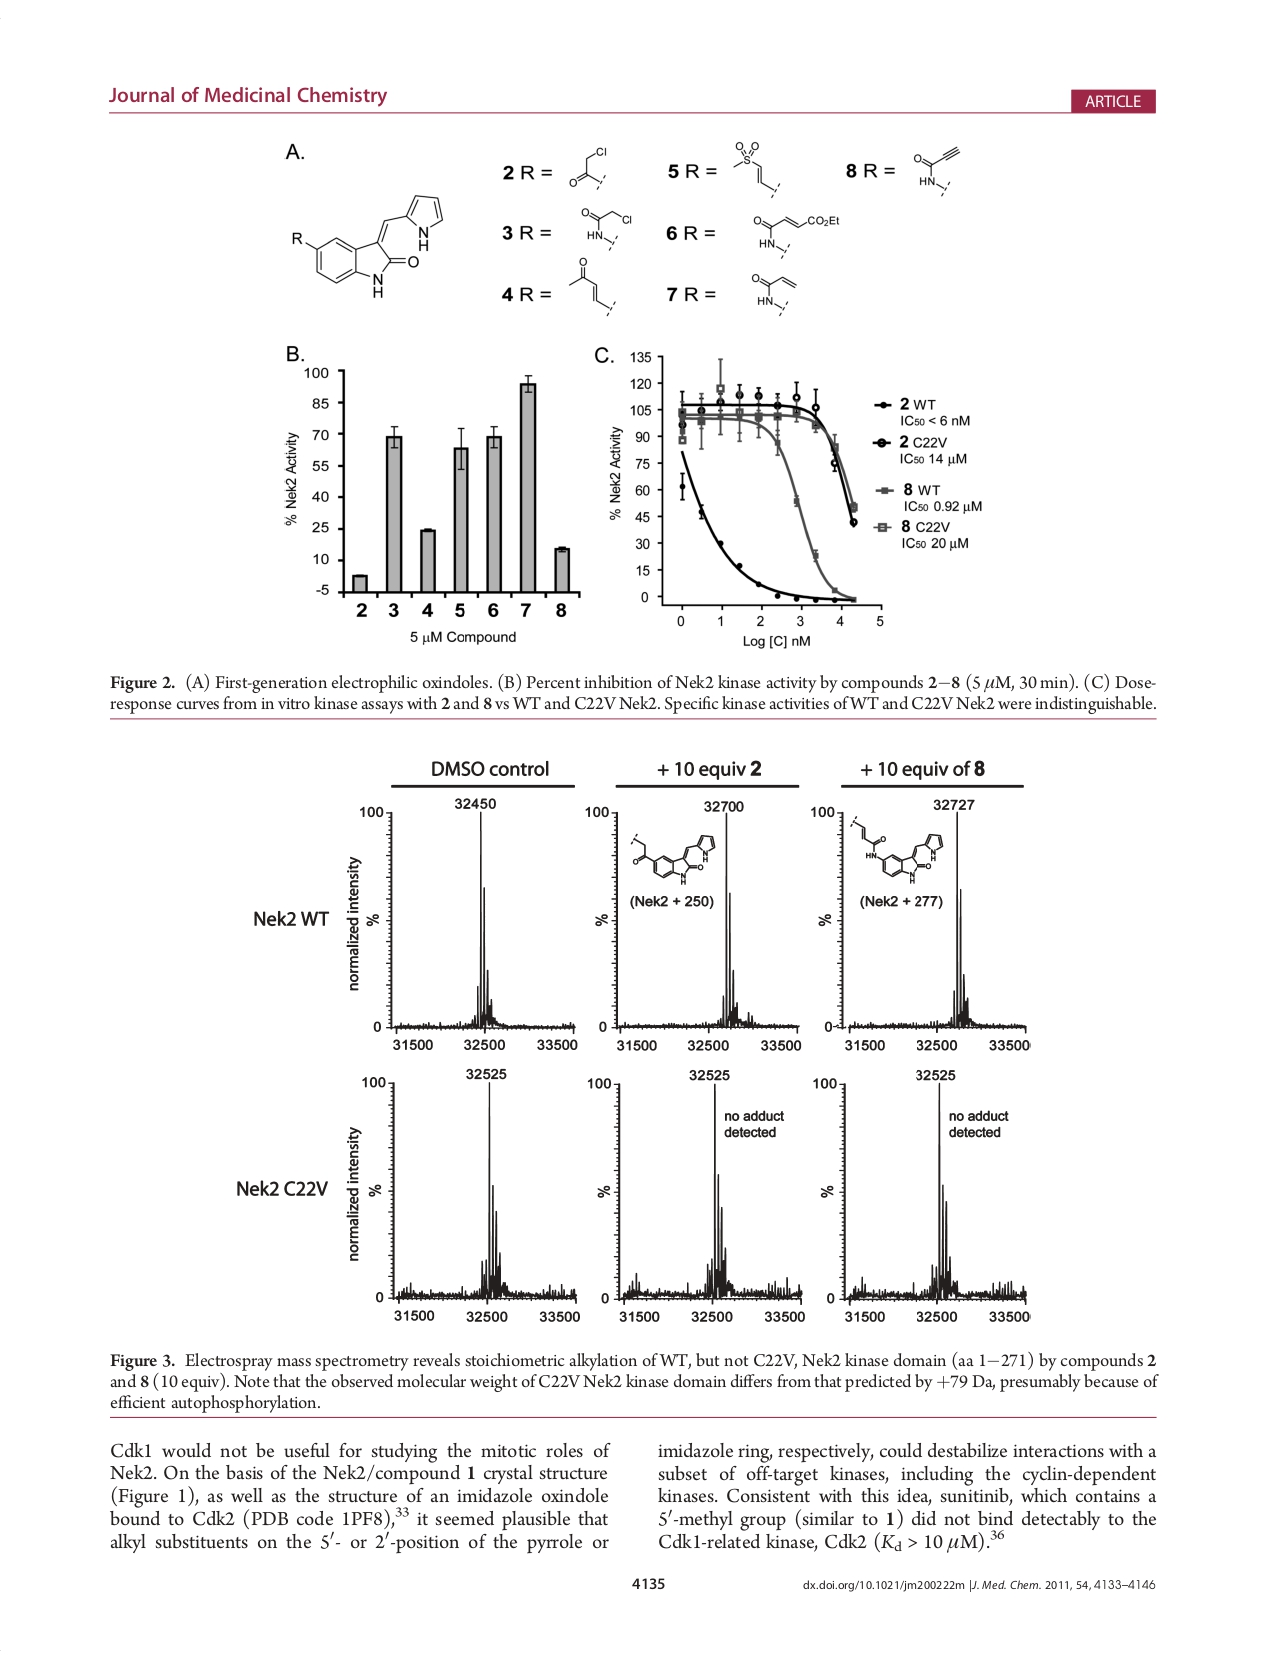exist_molecular: (289, 192, 447, 301), (848, 813, 944, 884), (626, 829, 717, 887), (747, 210, 842, 259), (729, 138, 785, 199), (567, 253, 618, 318), (910, 144, 961, 199), (745, 269, 799, 317), (577, 203, 633, 250), (565, 144, 612, 192)
